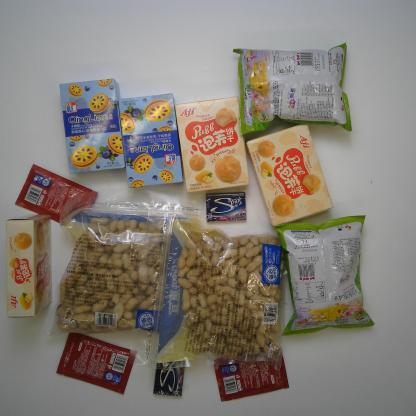Dessert: (242, 123, 332, 226), (175, 96, 253, 191), (57, 74, 127, 176), (118, 91, 182, 186), (5, 218, 55, 318)
Dried Food: (140, 207, 288, 369), (58, 202, 192, 335)
Gum: (204, 194, 250, 223), (154, 353, 184, 397)
Puffed Food: (230, 38, 357, 136), (275, 215, 373, 333)
Seasoner: (56, 334, 136, 396), (17, 166, 99, 226), (211, 349, 288, 401)
